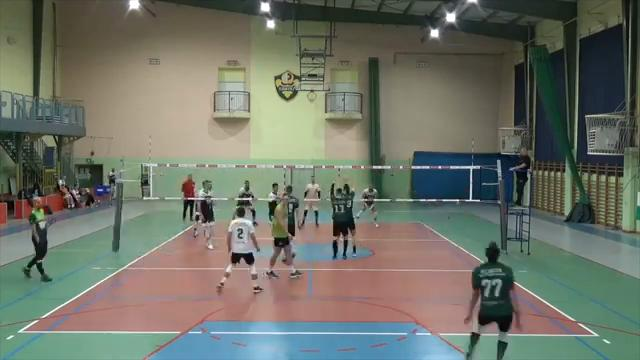battuta: (462, 239, 524, 359)
